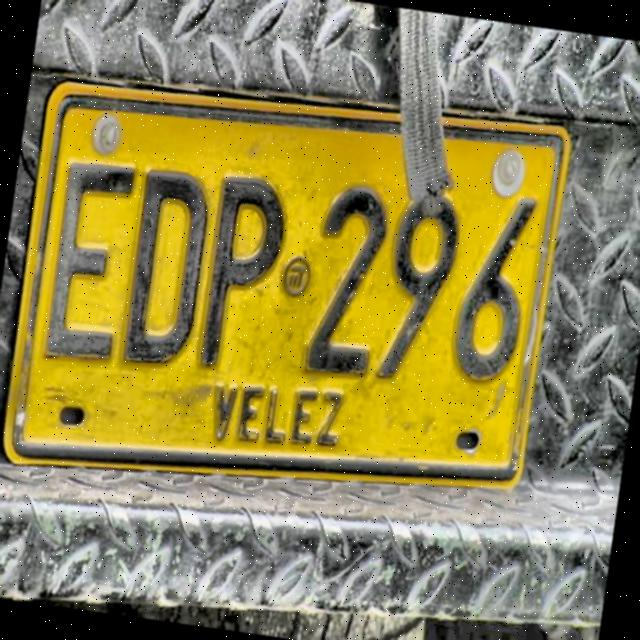2: (300, 174, 395, 385)
6: (443, 183, 544, 393)
9: (374, 182, 472, 387)
D: (119, 164, 212, 372)
E: (38, 158, 141, 367)
P: (195, 171, 303, 373)
